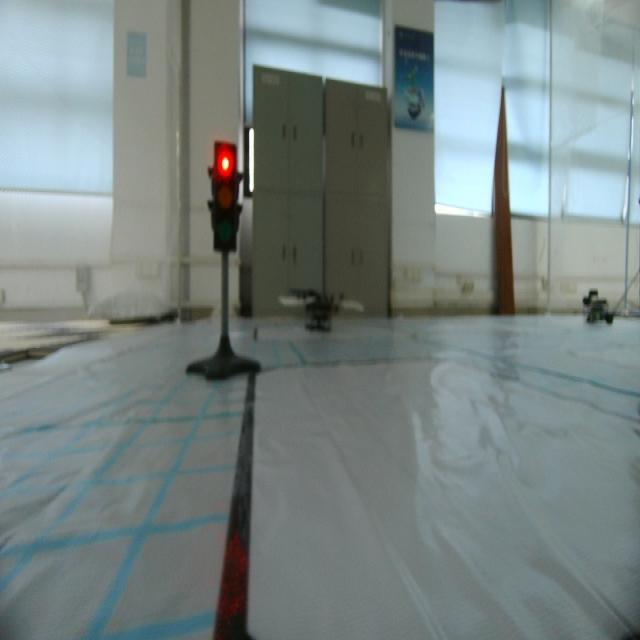red: (204, 134, 245, 254)
